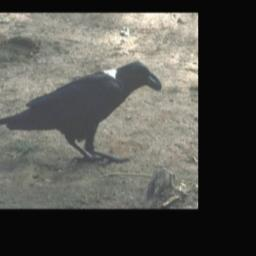Crow: (0, 59, 162, 166)
